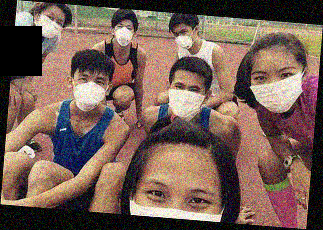with_mask: (129, 180, 224, 219), (248, 62, 302, 113), (166, 82, 206, 121), (71, 73, 106, 111), (35, 11, 63, 40), (111, 22, 135, 46), (172, 27, 195, 50)
